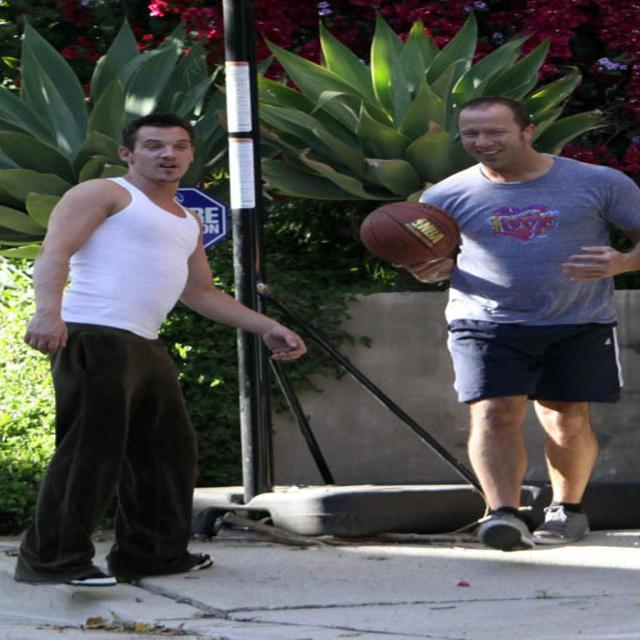Face: (456, 103, 526, 165), (135, 123, 200, 189)
